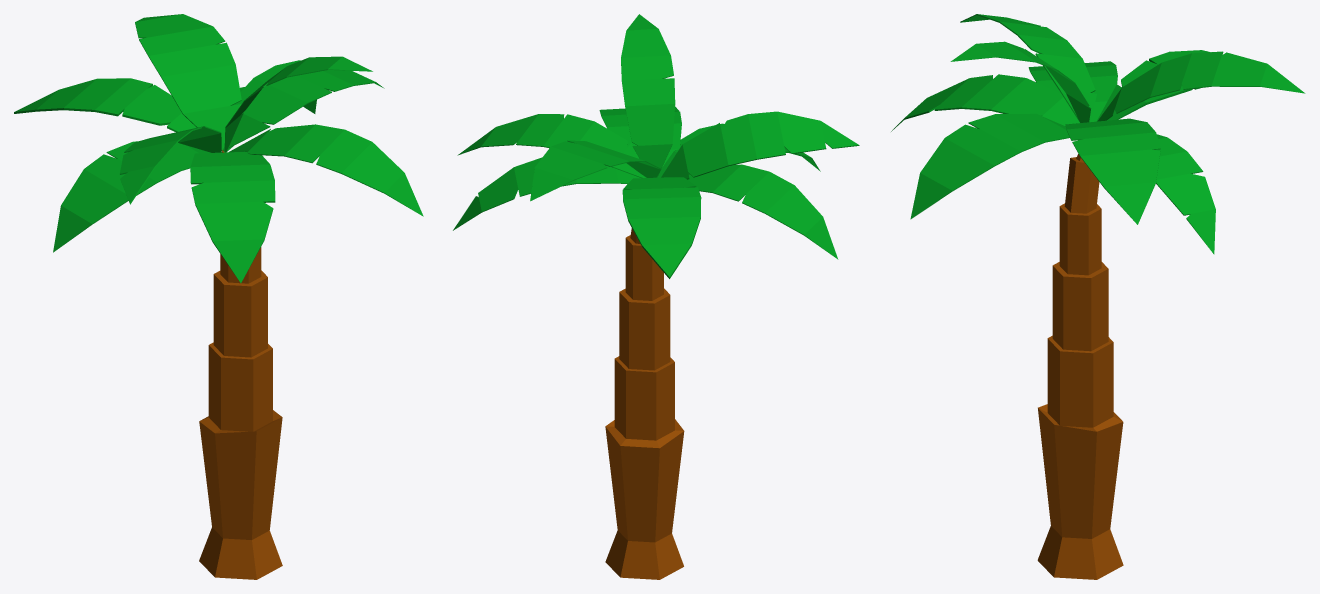
The model's file is treee3.glb.
3 renders of one model, left to right at view 1: azimuth 30°, elevation 25°; view 2: azimuth 150°, elevation 25°; view 3: azimuth 270°, elevation 25°, orthographic. The views are drawn at different scales.
Parts seen in each view (by area): view 1: Plane.040, Cylinder.012; view 2: Plane.040, Cylinder.012; view 3: Plane.040, Cylinder.012.
Boxes of the visible parts, bbox=[...] form: Plane.040: bbox=[14, 14, 423, 282]; Cylinder.012: bbox=[199, 150, 282, 579]; Plane.040: bbox=[453, 14, 859, 278]; Cylinder.012: bbox=[605, 228, 684, 579]; Plane.040: bbox=[891, 14, 1305, 254]; Cylinder.012: bbox=[1037, 154, 1123, 579].
Bounding box in the file's own units: 7.44 × 10.08 × 7.1.
